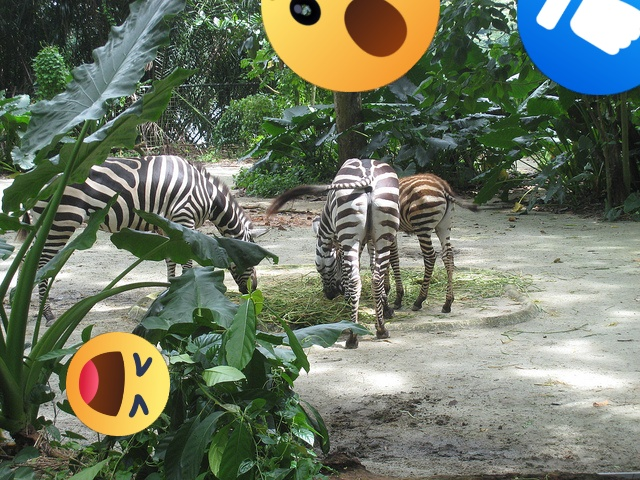haha: (66, 332, 170, 436)
like: (517, 0, 640, 95)
wow: (261, 0, 440, 92)
